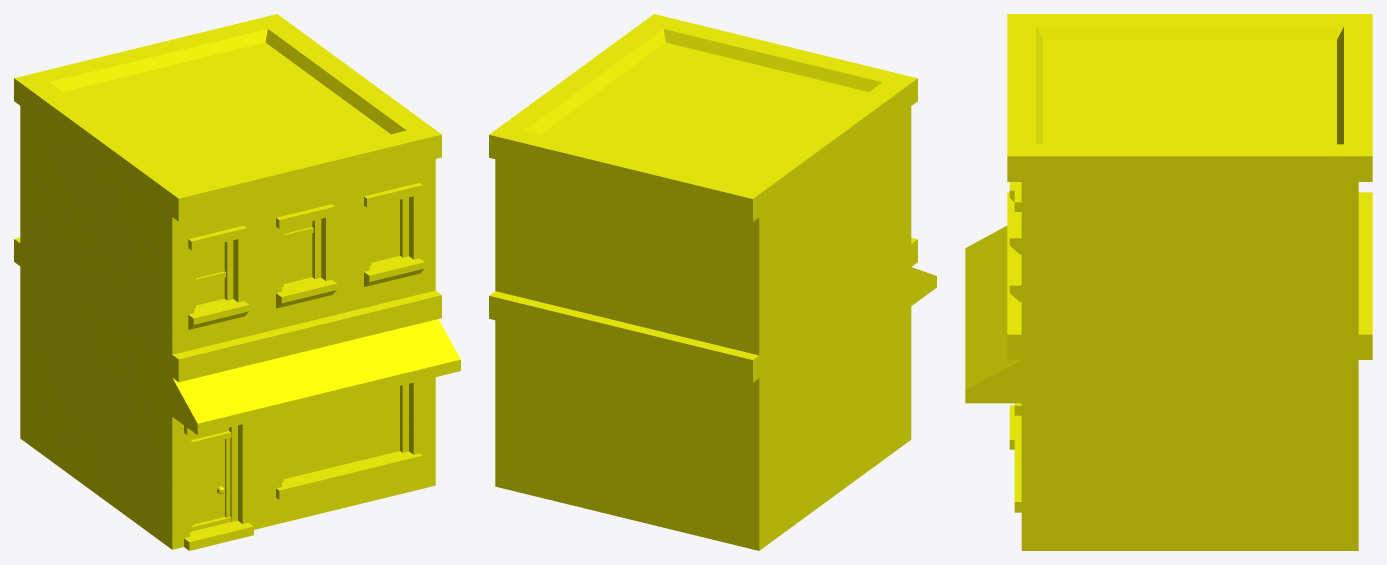
The model's file is kaykit-building-a-withoutbase.glb.
3 views of the same model, side by side, from view 1: azimuth 30°, elevation 25°; view 2: azimuth 150°, elevation 25°; view 3: azimuth 270°, elevation 25° (orthographic). The views are drawn at different scales.
Visible parts, largest first — view 1: building_A_withoutBase; view 2: building_A_withoutBase; view 3: building_A_withoutBase.
Part boxes in pixels (<box>): building_A_withoutBase: <box>14,14,460,550</box>; building_A_withoutBase: <box>489,14,936,550</box>; building_A_withoutBase: <box>965,14,1372,550</box>.
Size of the model in its own units: 1.21 by 1.55 by 1.45.
